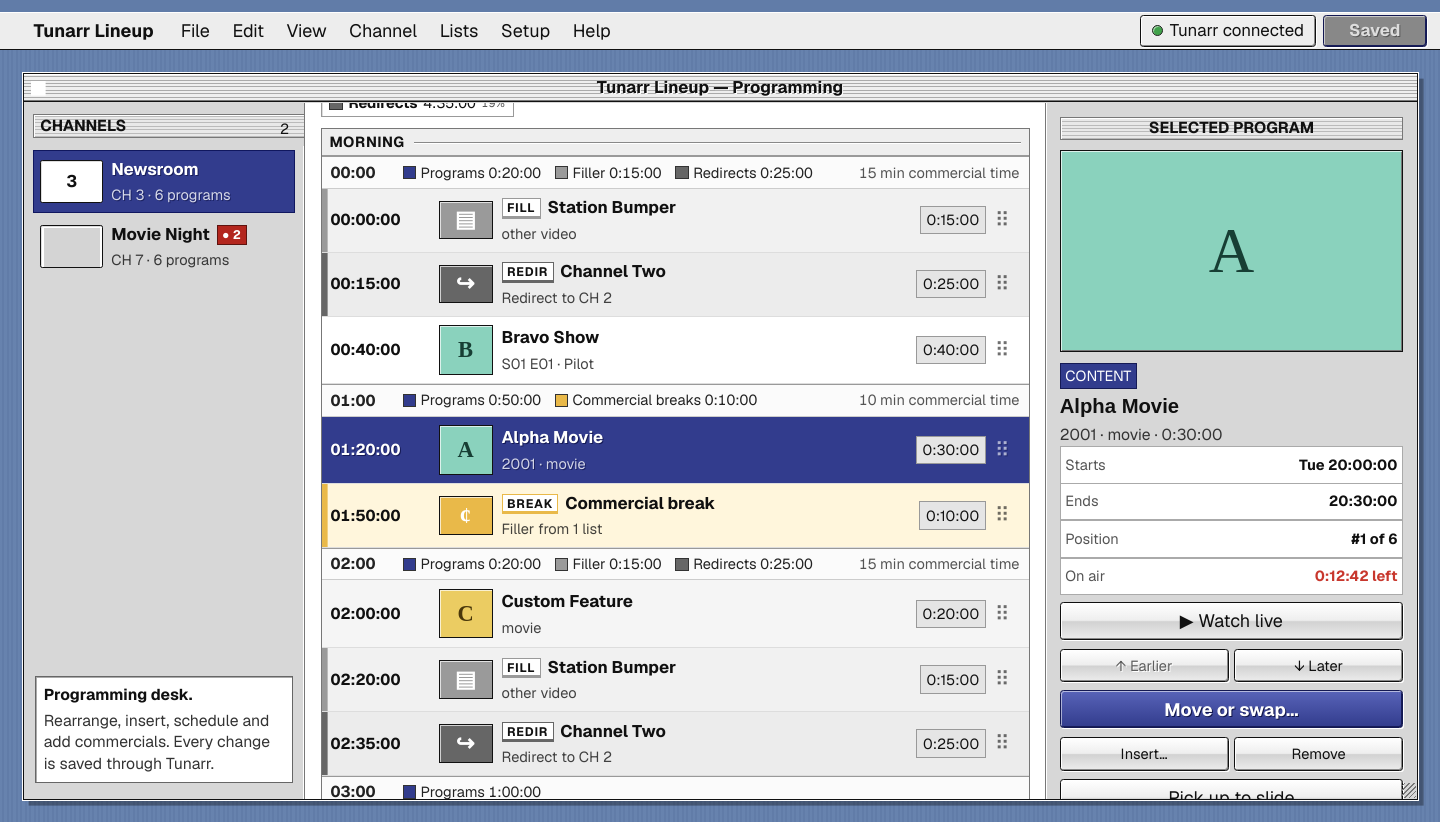
live mode › undoes and redoes step by step, and reverts everything
The width and height of the screenshot is (1440, 822).
(page scrolled)
Click the button "01:20:00 A Alpha Movie 2001 · movie 0:30:00 ⠿". click: coordinates (365, 450)
box: [322,417,1028,484]
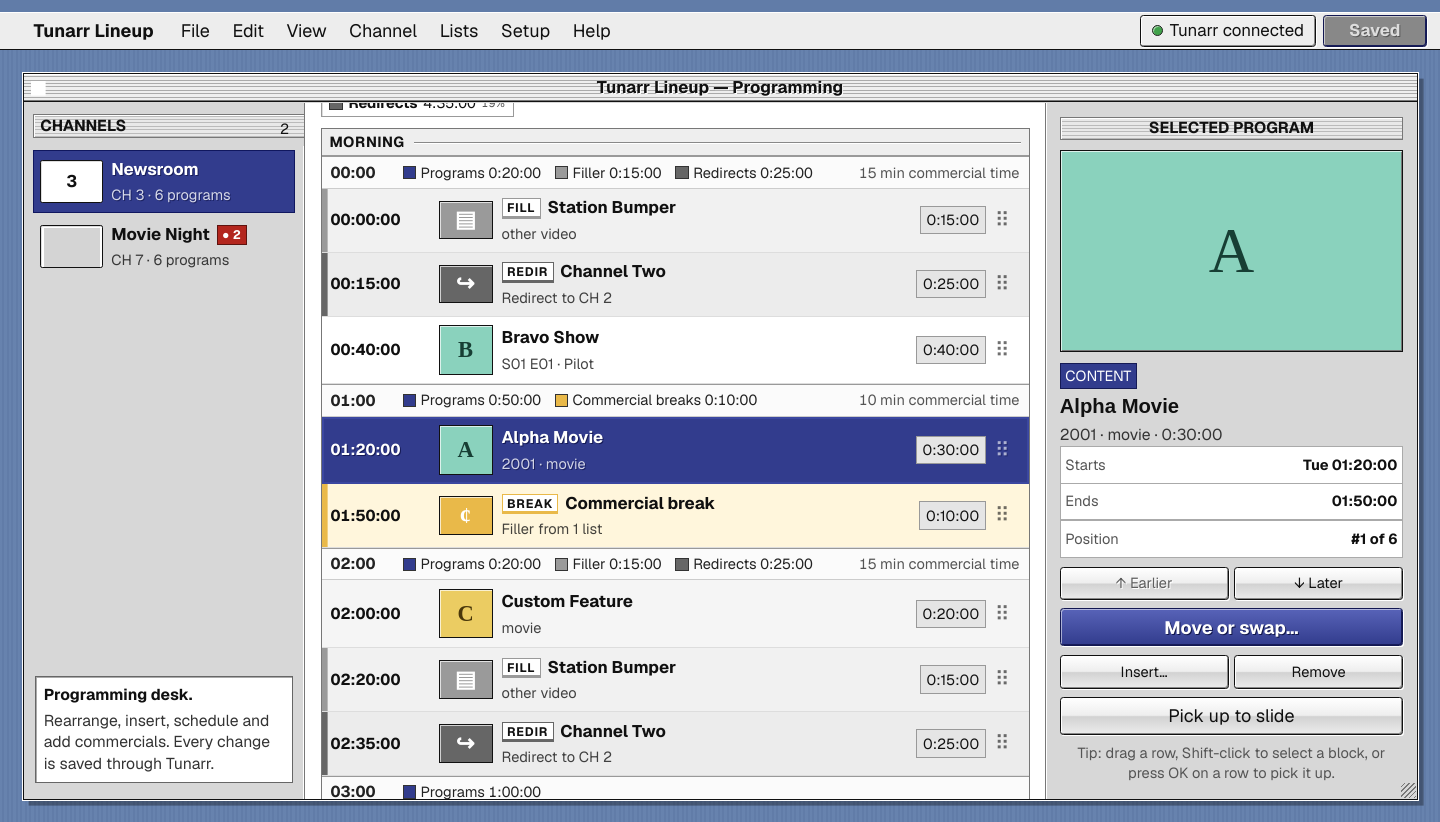
Click the button "↓ Later". click: coordinates (1319, 583)
box: [1234,566,1403,600]
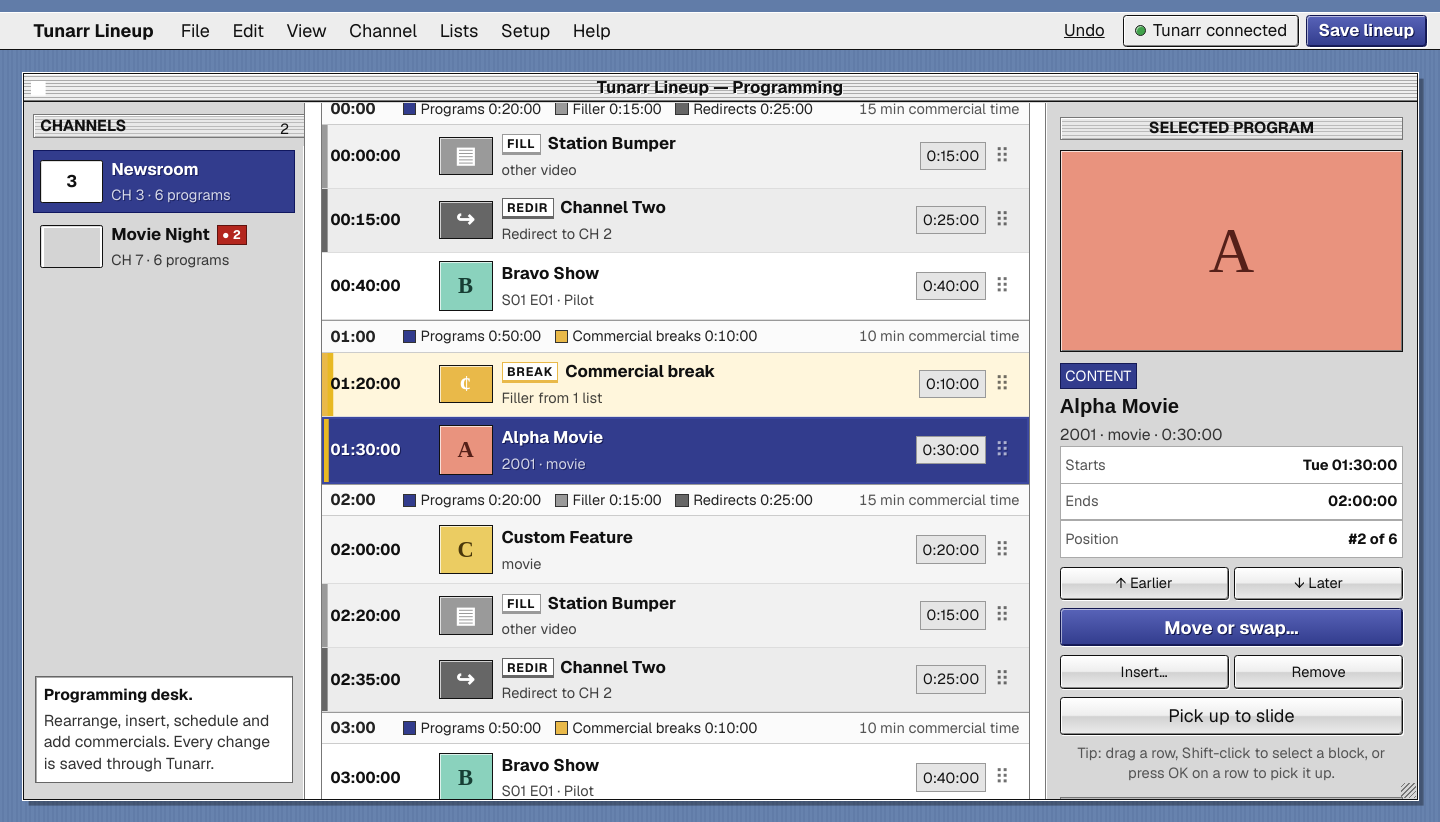
Click the button "↓ Later". click: coordinates (1319, 583)
box: [1234,566,1403,600]
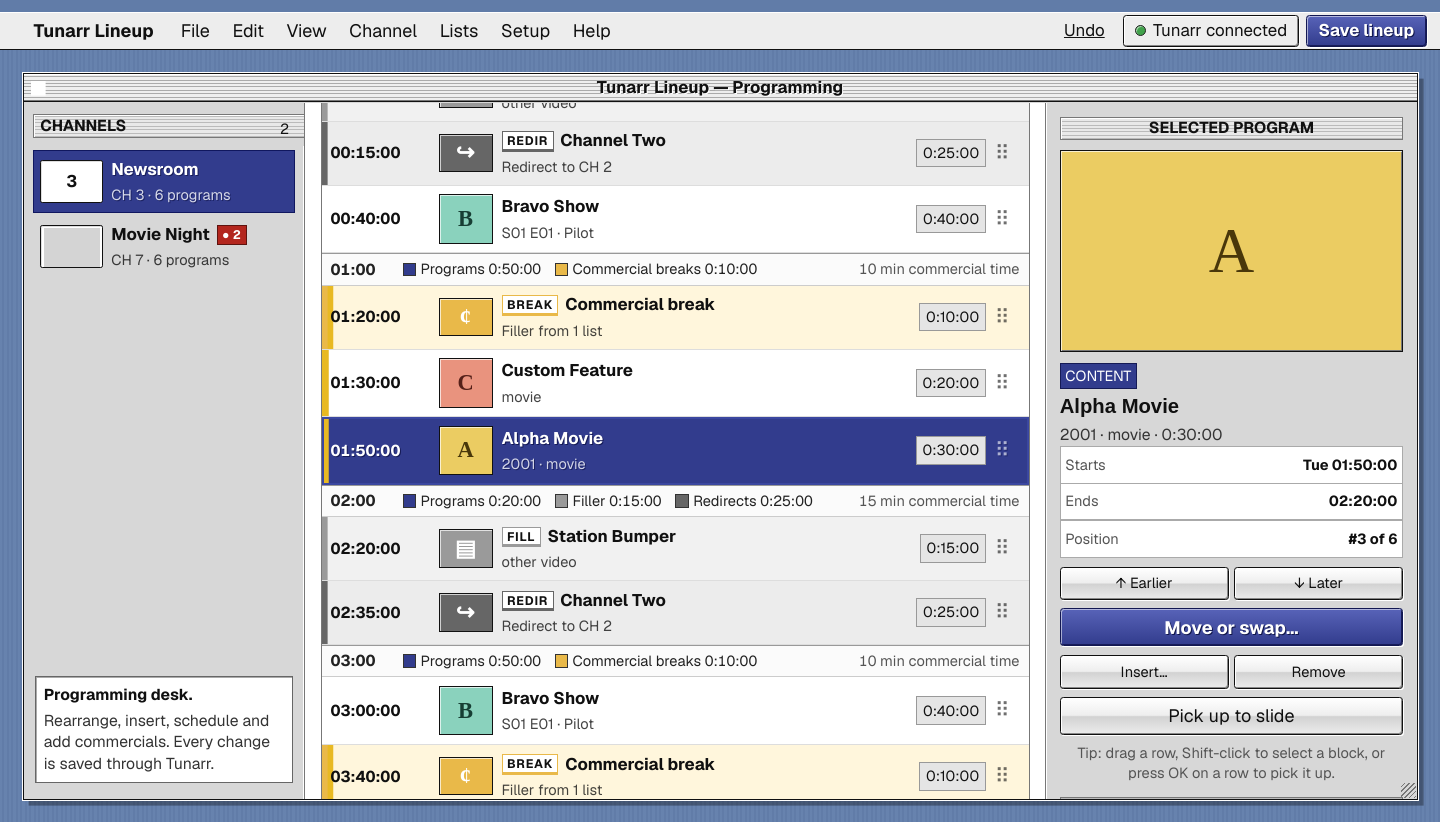
Click the button "Undo". click: coordinates (1084, 31)
box: [1053,16,1116,46]
(page scrolled)
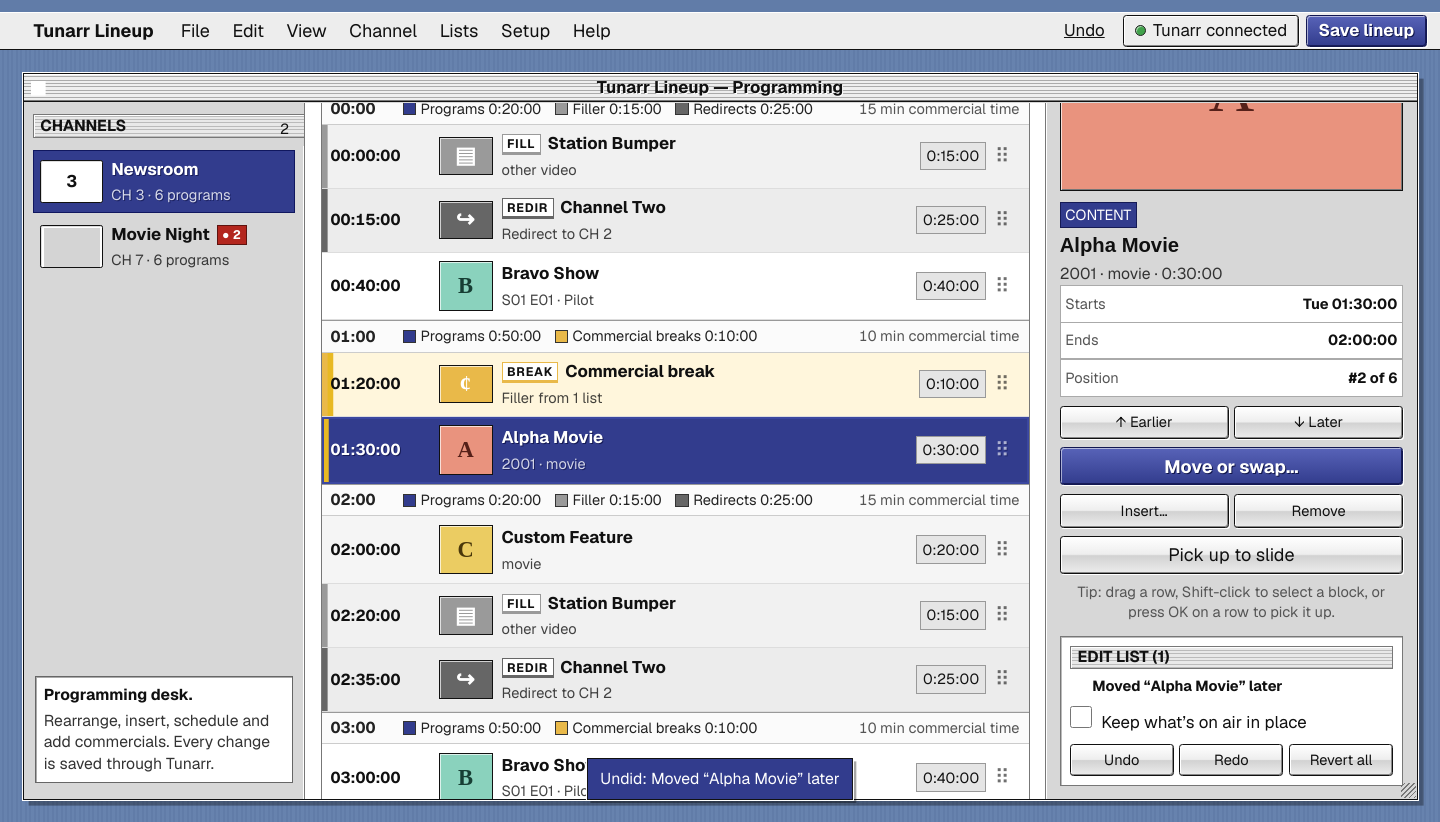
Now the button "Save lineup" is shown, box [1306,15,1426,46]
Now the text "EDIT LIST (1)" is shown, box [1070,646,1393,670]
Click the button "Redo". click: coordinates (1231, 760)
box: [1179,744,1283,776]
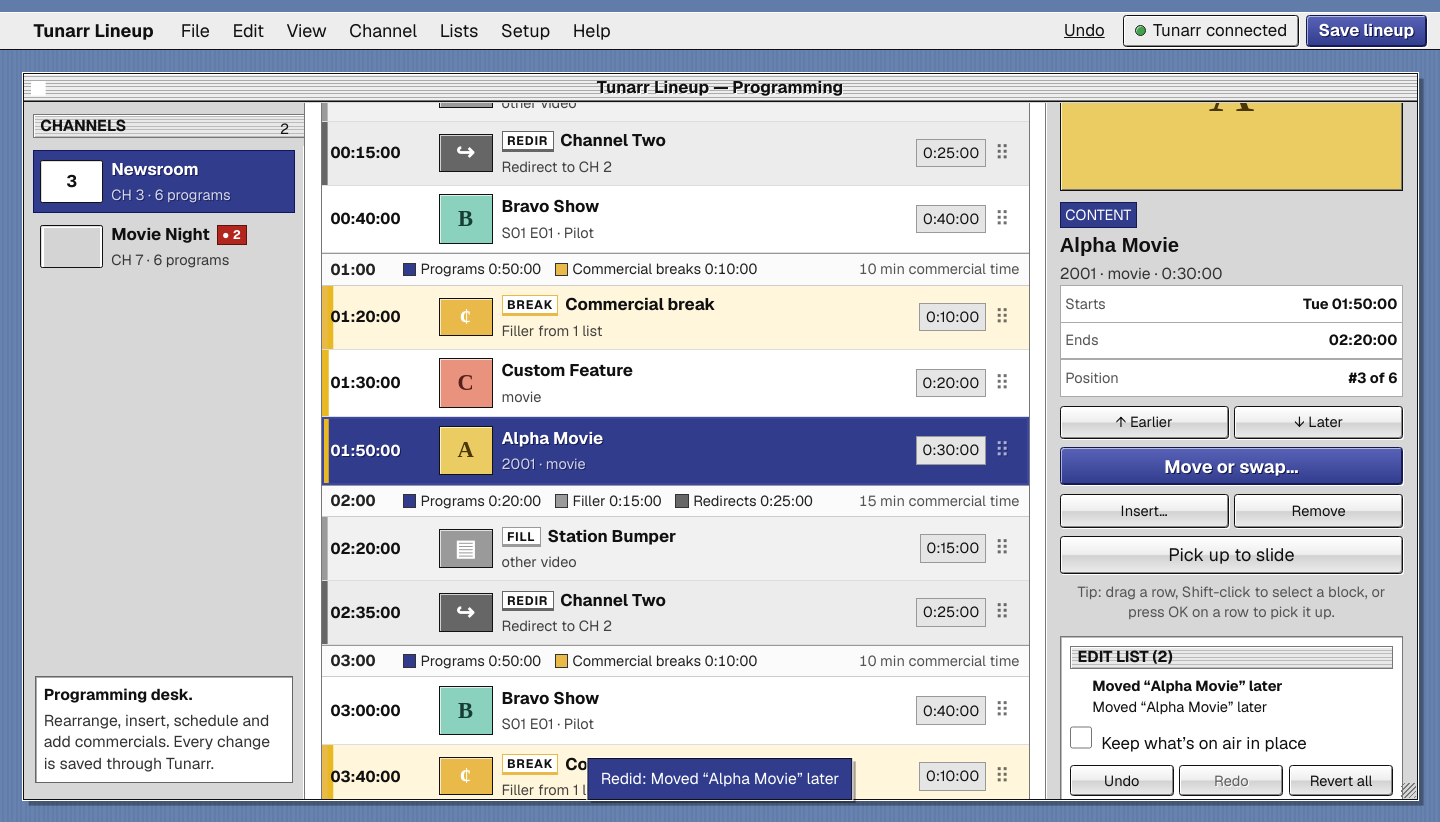
Now the text "EDIT LIST (2)" is shown, box [1070,646,1393,670]
Click the button "Revert all". click: coordinates (1341, 781)
box: [1289,765,1393,796]
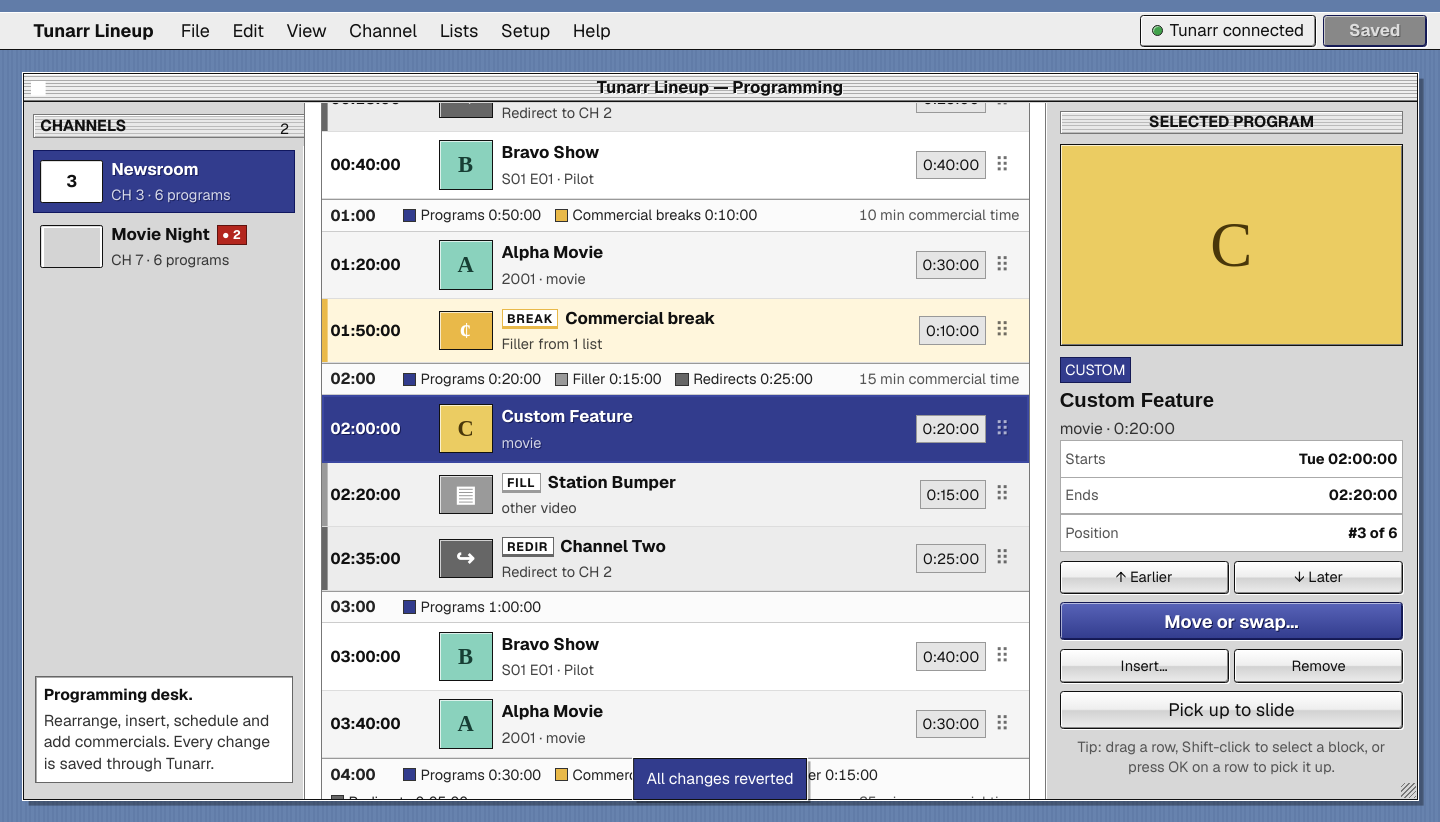
Now the button "Saved" is shown, box [1323,15,1426,46]
